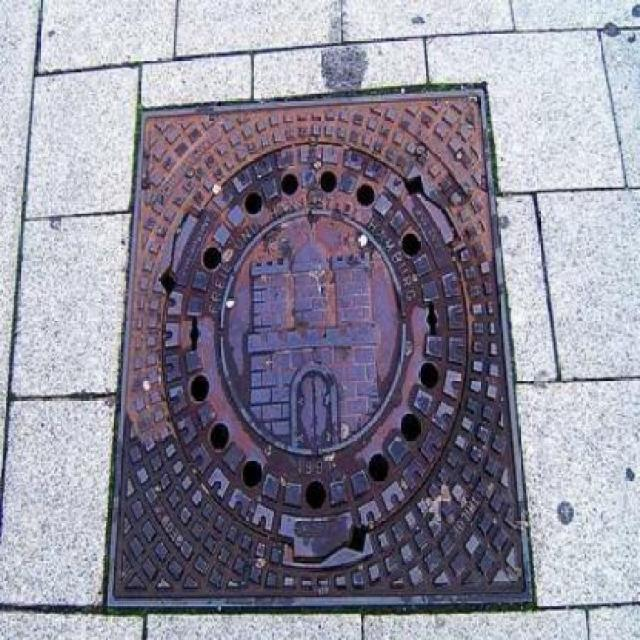Manhole: (92, 83, 586, 622)
